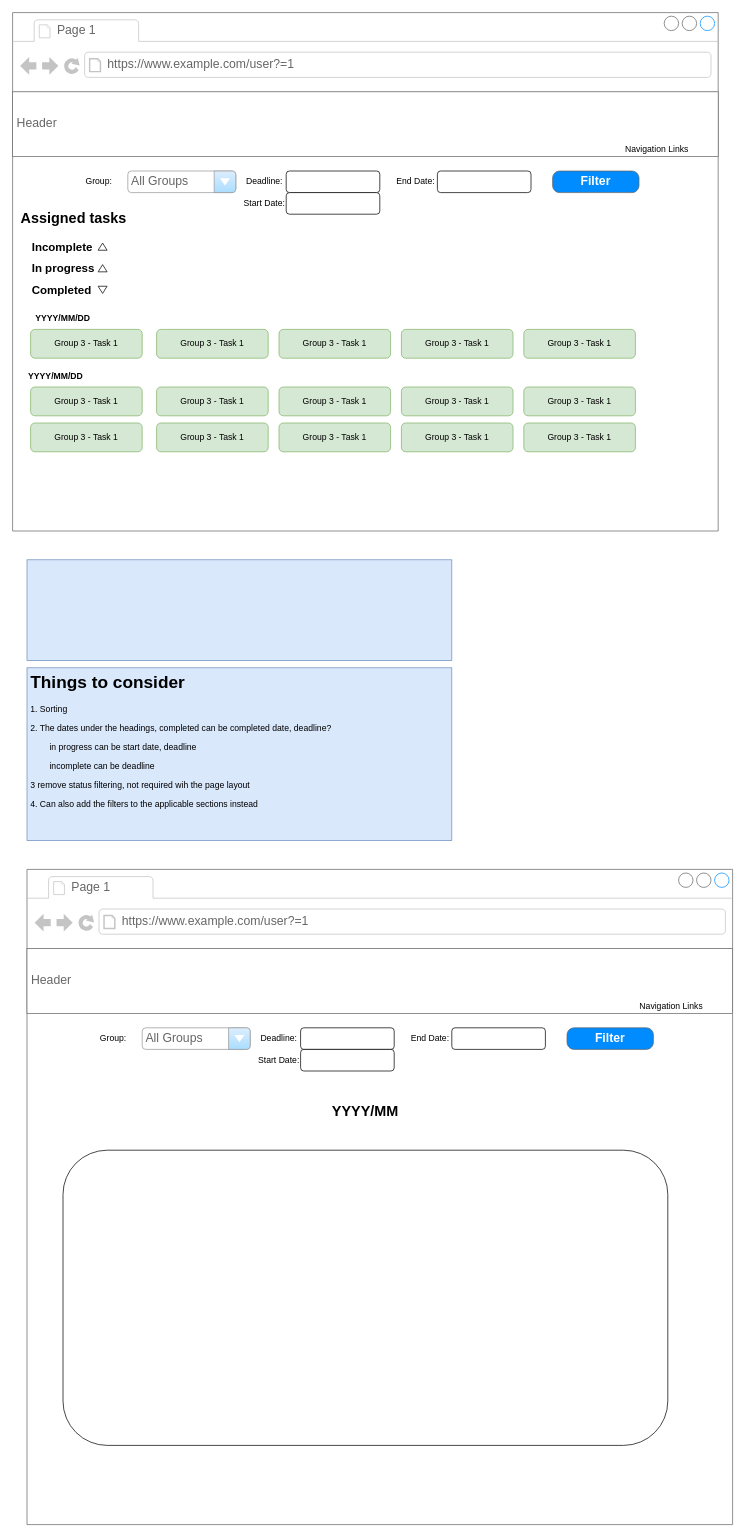
The diagram is 745 pixels wide and 1537 high, and some of its shapes have lost their labels. Each missing label, with the centre of its shape:
"CALENDAR" belongs at [365,1297].
"Clicking task Redirects to the task information page" belongs at [239,610].
